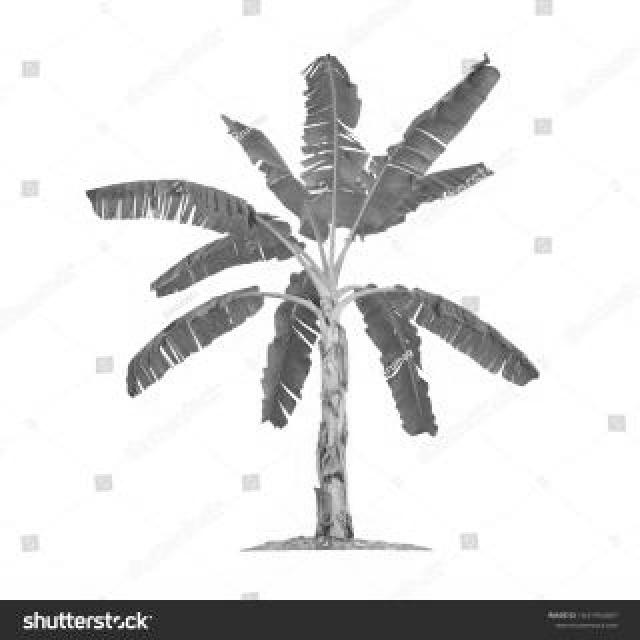Pisang: (89, 53, 551, 536)
